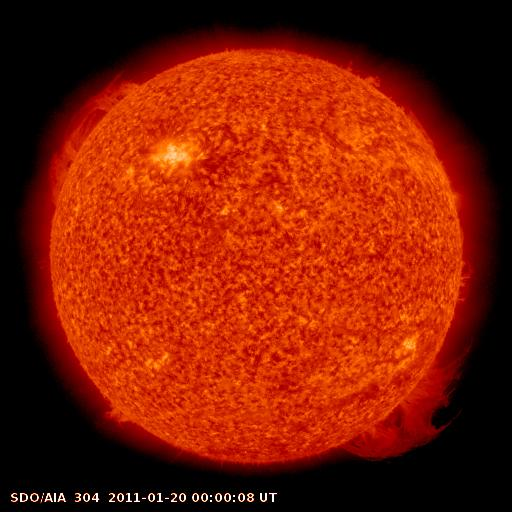prominence: (335, 331, 494, 469), (34, 67, 157, 210), (433, 251, 488, 315), (83, 389, 147, 442), (394, 99, 446, 159), (341, 48, 393, 95)
